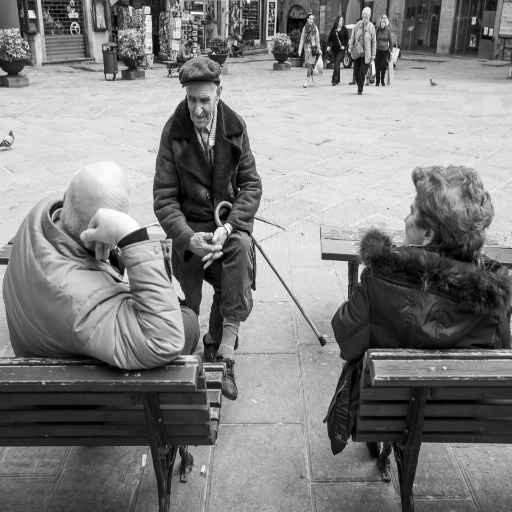hand: (73, 203, 134, 256), (200, 224, 227, 272), (188, 231, 224, 260)
